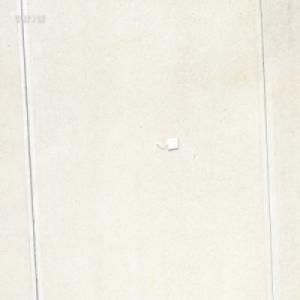LuggageTag: (154, 136, 179, 152)
